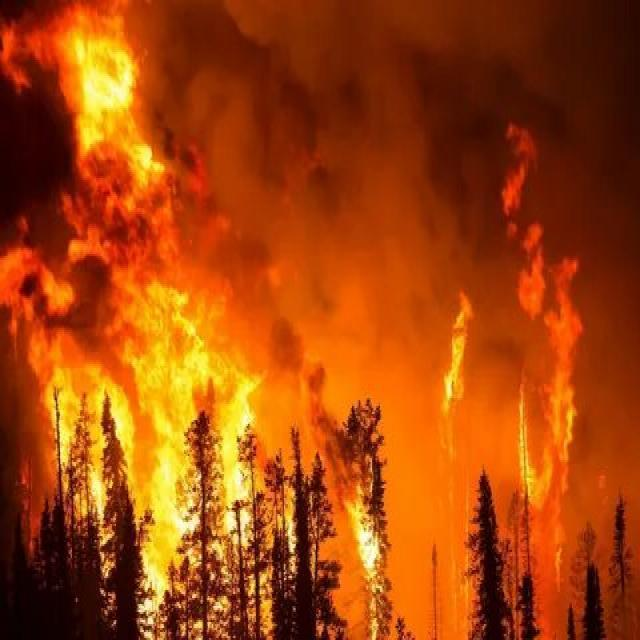Fire: (117, 279, 290, 628), (22, 0, 174, 296), (30, 321, 166, 575), (310, 411, 439, 640)
